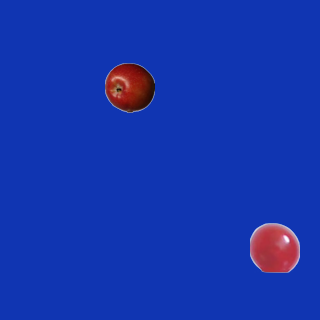Apple Braeburn: (104, 62, 154, 112)
Redcurrant: (249, 222, 299, 272)
